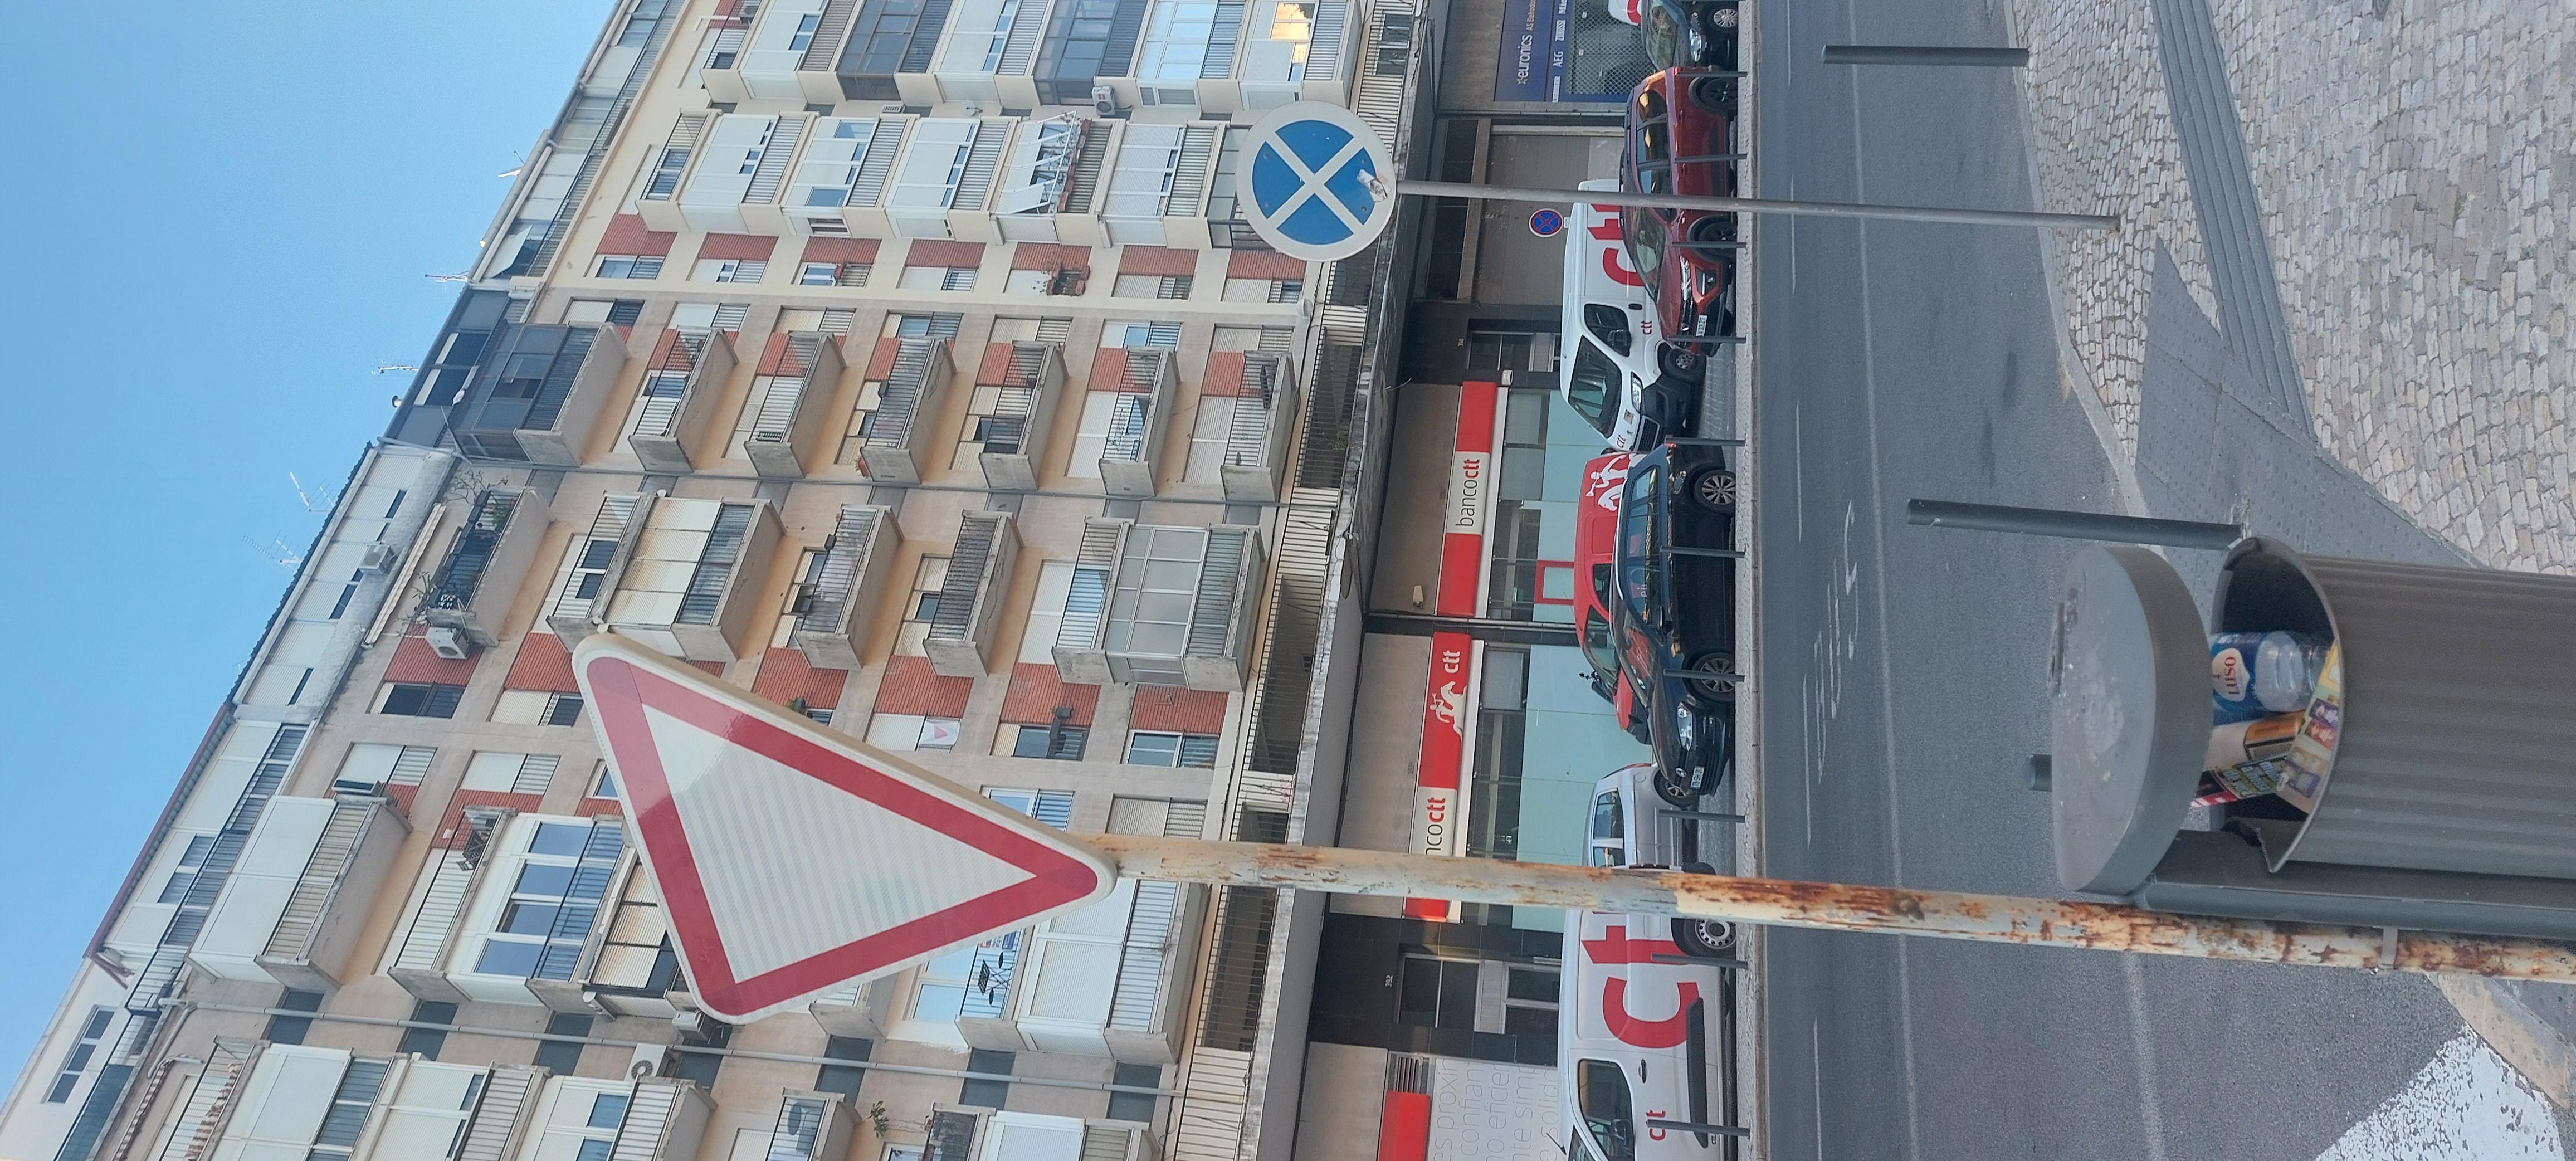cedencia de passagem: (210, 241, 1534, 507)
